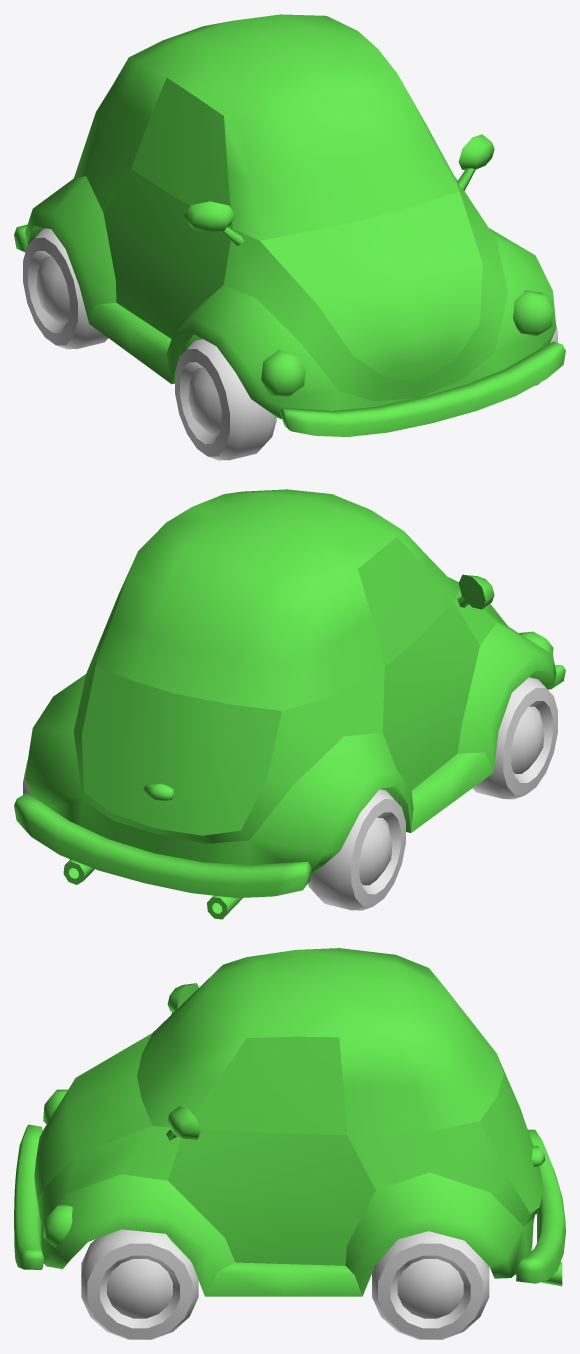
File: Car_1.glb
The picture shows the model from 3 angles, top to bottom: view 1: azimuth 30°, elevation 25°; view 2: azimuth 150°, elevation 25°; view 3: azimuth 270°, elevation 25°; orthographic projection. The views are drawn at different scales.
Visible parts, largest first — view 1: car_frame-vehicle, car_hood, car_wheel_FR, car_wheel_RR; view 2: car_frame-vehicle, car_trunk, car_wheel_RR, car_wheel_FR; view 3: car_frame-vehicle, car_wheel_FL, car_wheel_RL, car_hood, car_trunk.
Part boxes in pixels (x1,y1,x2,y2): car_frame-vehicle: [14, 14, 565, 436]; car_hood: [260, 192, 482, 381]; car_wheel_FR: [175, 339, 276, 460]; car_wheel_RR: [23, 228, 108, 349]; car_frame-vehicle: [14, 489, 565, 919]; car_trunk: [82, 666, 281, 835]; car_wheel_RR: [308, 789, 405, 910]; car_wheel_FR: [472, 677, 557, 799]; car_frame-vehicle: [14, 948, 565, 1296]; car_wheel_FL: [81, 1229, 198, 1339]; car_wheel_RL: [372, 1231, 489, 1339]; car_hood: [34, 1033, 152, 1198]; car_trunk: [479, 1056, 544, 1213].
Size of the model in its own units: 1.22 by 1.05 by 1.78.
